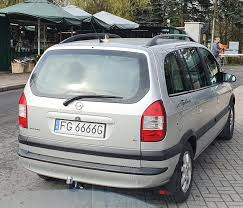number_plate: (53, 119, 107, 139)
